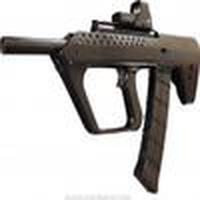gun: (1, 2, 199, 139)
